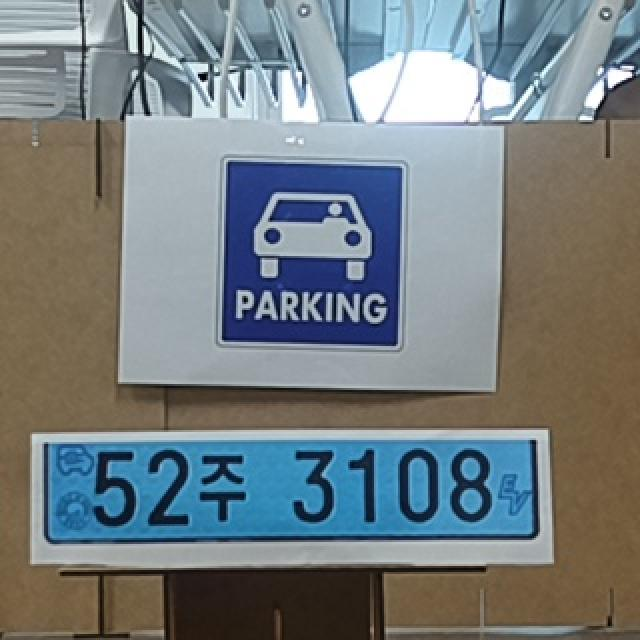electric: (43, 438, 540, 542)
